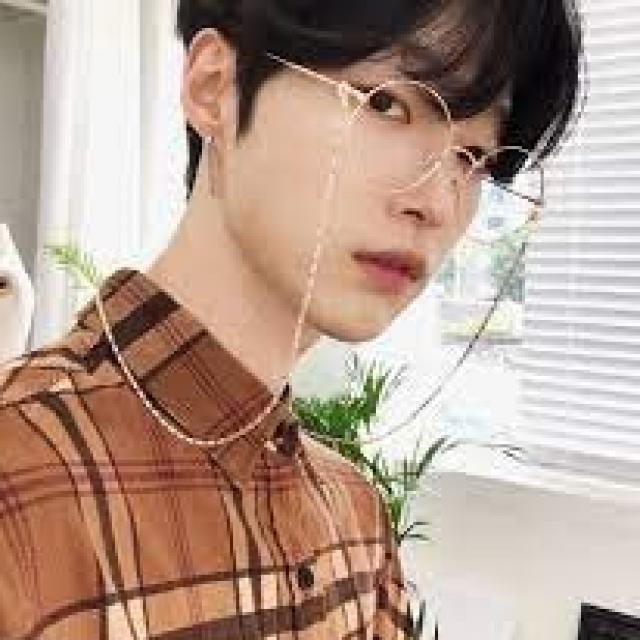Glasses: (218, 18, 566, 252)
